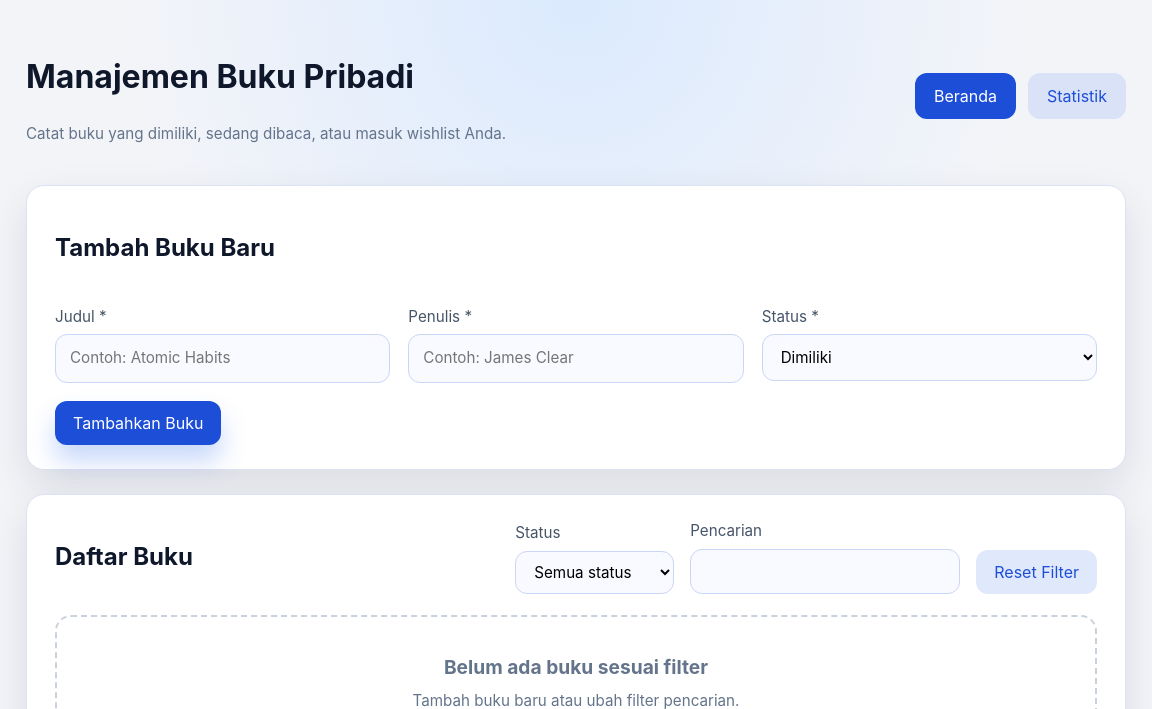
Scenario: Aplikasi Manajemen Buku Pribadi › dapat menambah buku baru
Type "Clean Architecture" into the field labelled "Judul *". click: (223, 359)
box: [55,334,390,383]
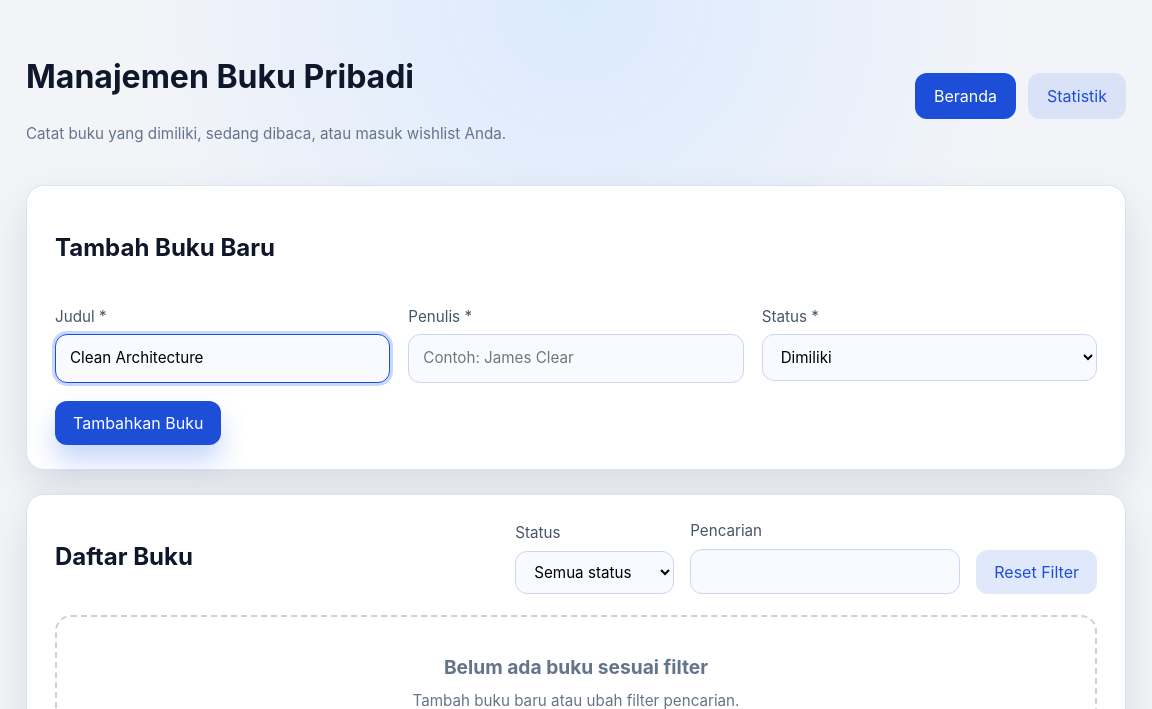
Type "Robert C. Martin" into the field labelled "Penulis *". click: (576, 359)
box: [408,334,744,383]
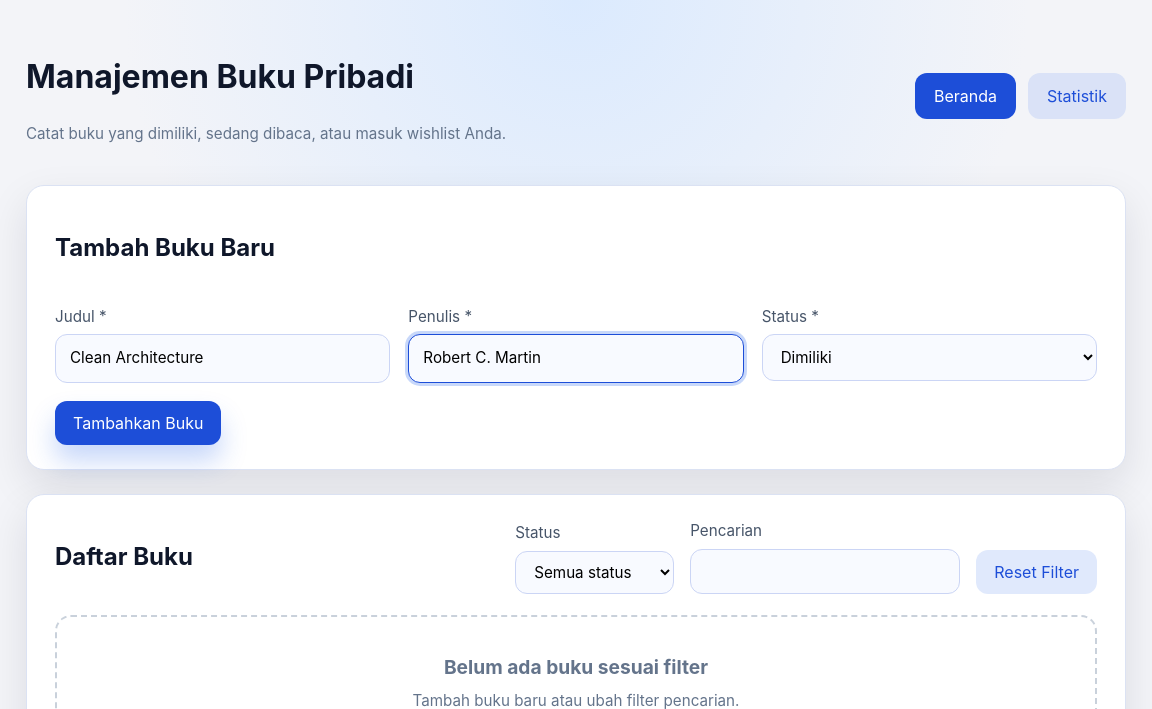
Select "Sedang Dibaca" in the dropdown labelled "Status *". click: (929, 358)
box: [762,334,1097,382]
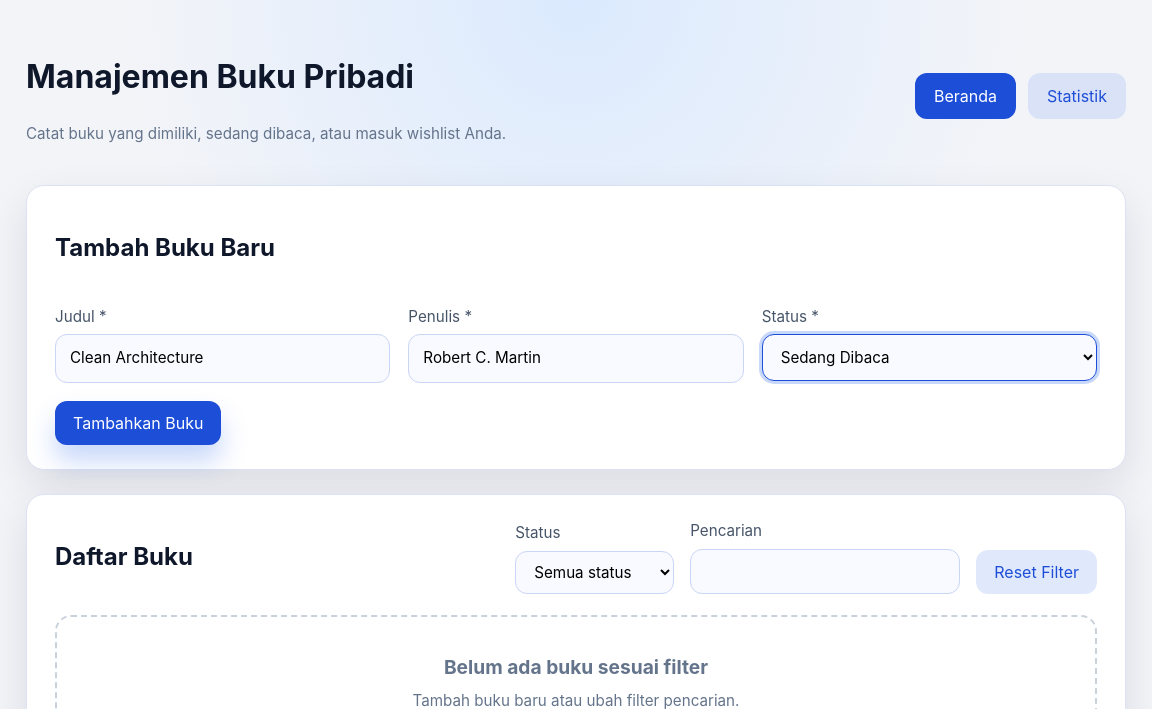
Click the button "Tambahkan Buku". click: (138, 423)
box: [55,401,222,445]
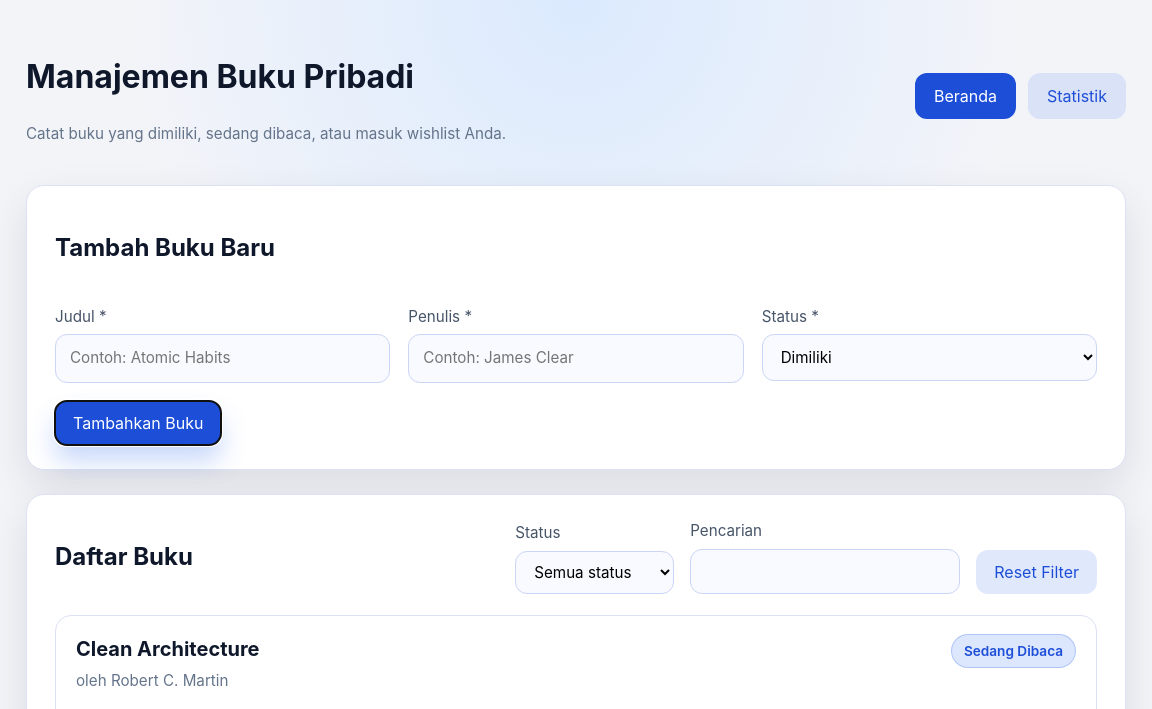
Check: the heading "Clean Architecture" is shown, box [76,634,260,664]
Check: the text "oleh Robert C. Martin" is shown, box [76,671,228,690]
